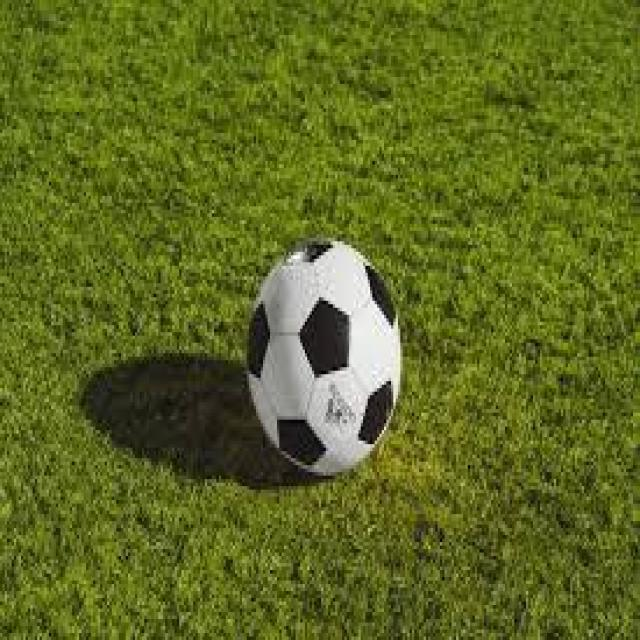Soccer Ball: (249, 241, 400, 476)
